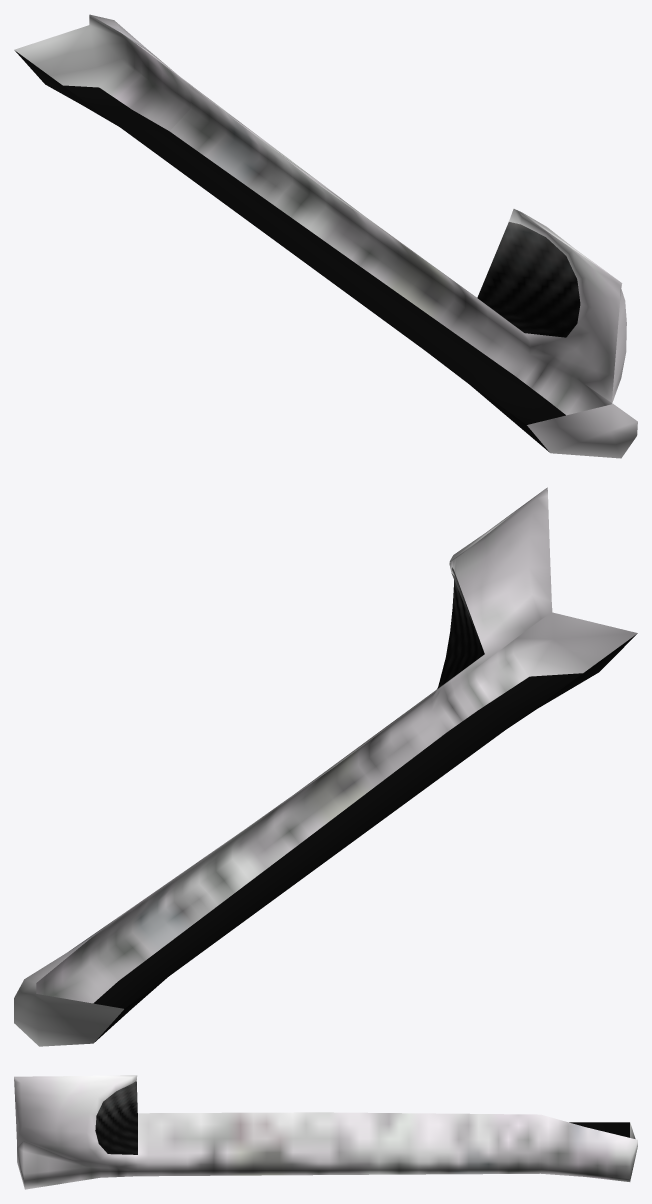
The picture shows the model from 3 angles, top to bottom: view 1: azimuth 30°, elevation 25°; view 2: azimuth 150°, elevation 25°; view 3: azimuth 270°, elevation 25°; orthographic projection. The views are drawn at different scales.
Parts seen in each view (by area): view 1: wg_r_c_l; view 2: wg_r_c_l; view 3: wg_r_c_l.
Boxes of the visible parts, left/top/right/bottom form: wg_r_c_l: left=14, top=14, right=637, bottom=458; wg_r_c_l: left=14, top=487, right=637, bottom=1046; wg_r_c_l: left=14, top=1075, right=637, bottom=1189.
Size of the model in its own units: 0.291 by 0.4141 by 2.12.
Materials: 3 (2 with a texture image).
